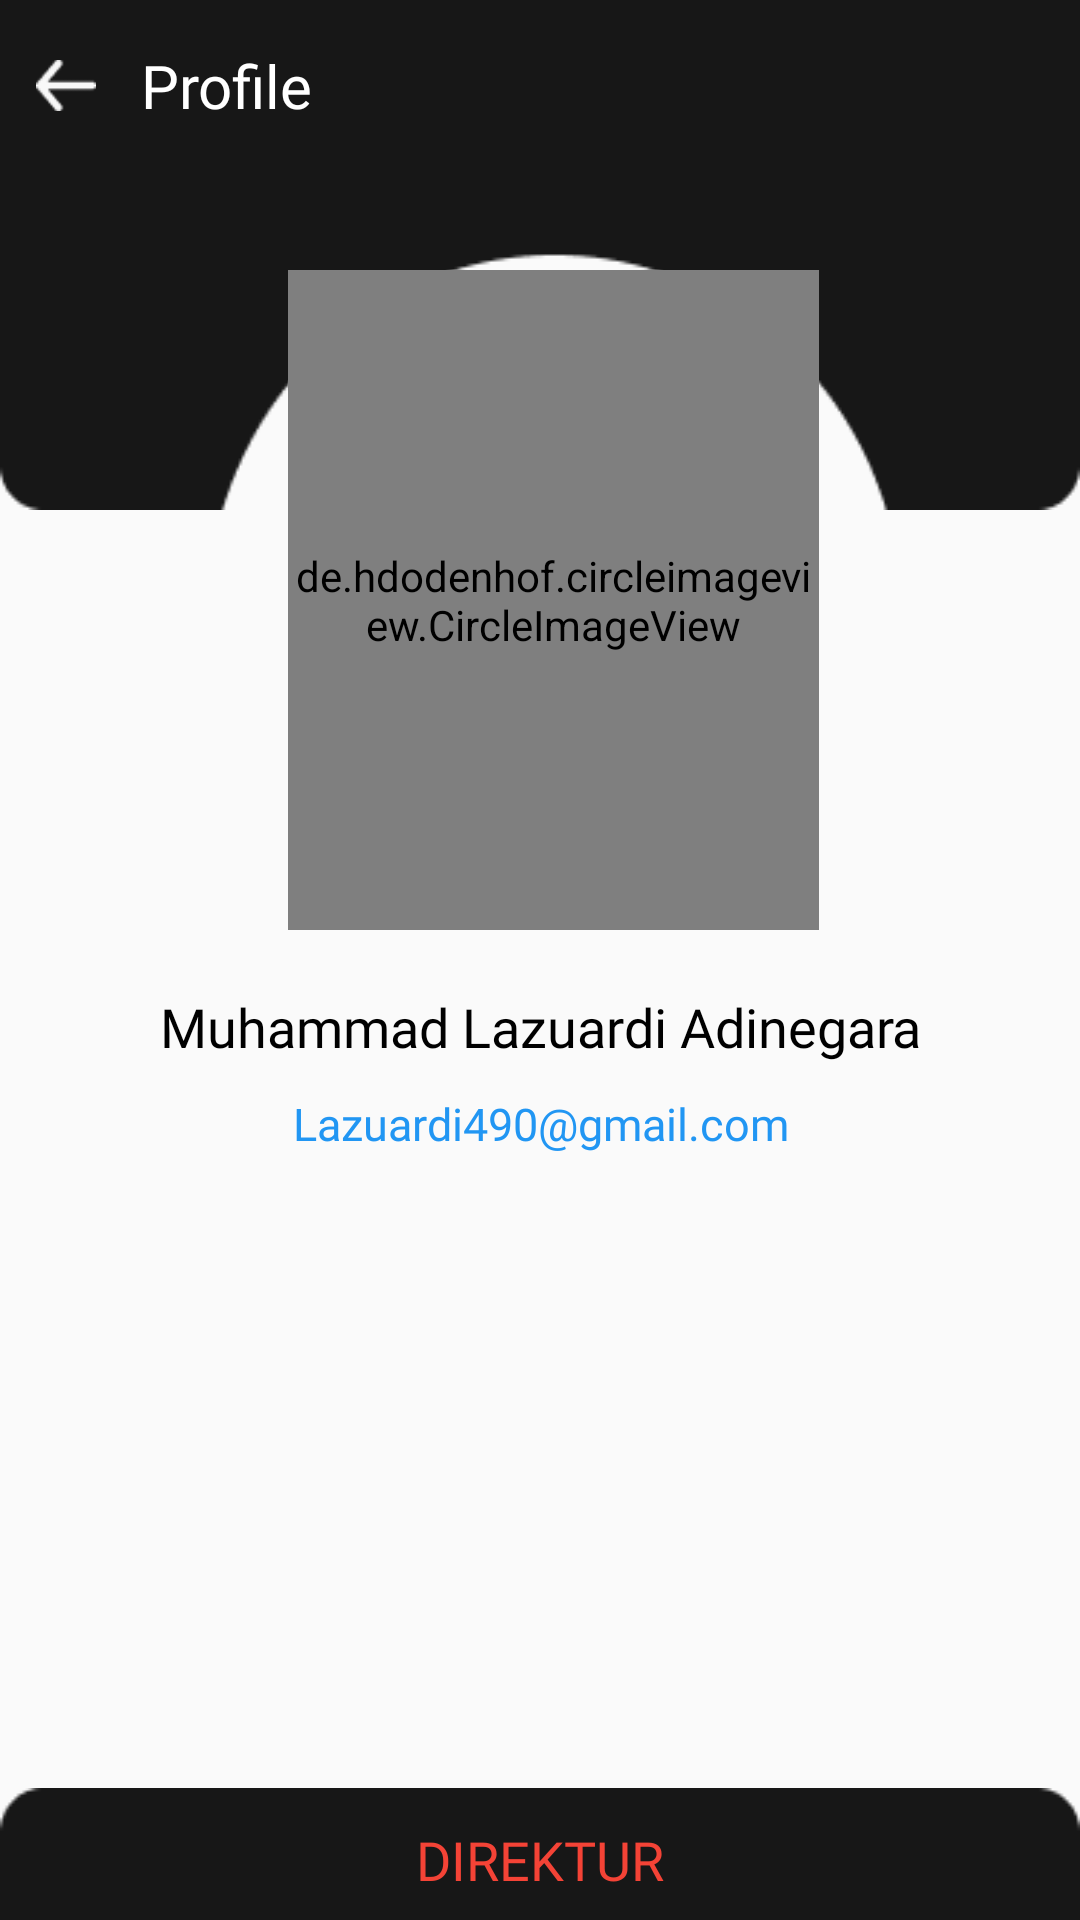

Where icons sit on this 1080x1920 app screen, as (x1, y1, x2, y2):
back: (36, 60, 96, 111)
